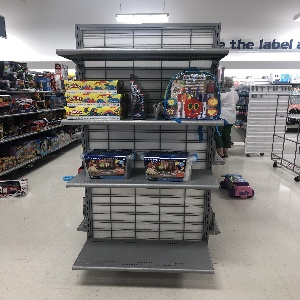void: (77, 185, 212, 269), (73, 23, 221, 51)
